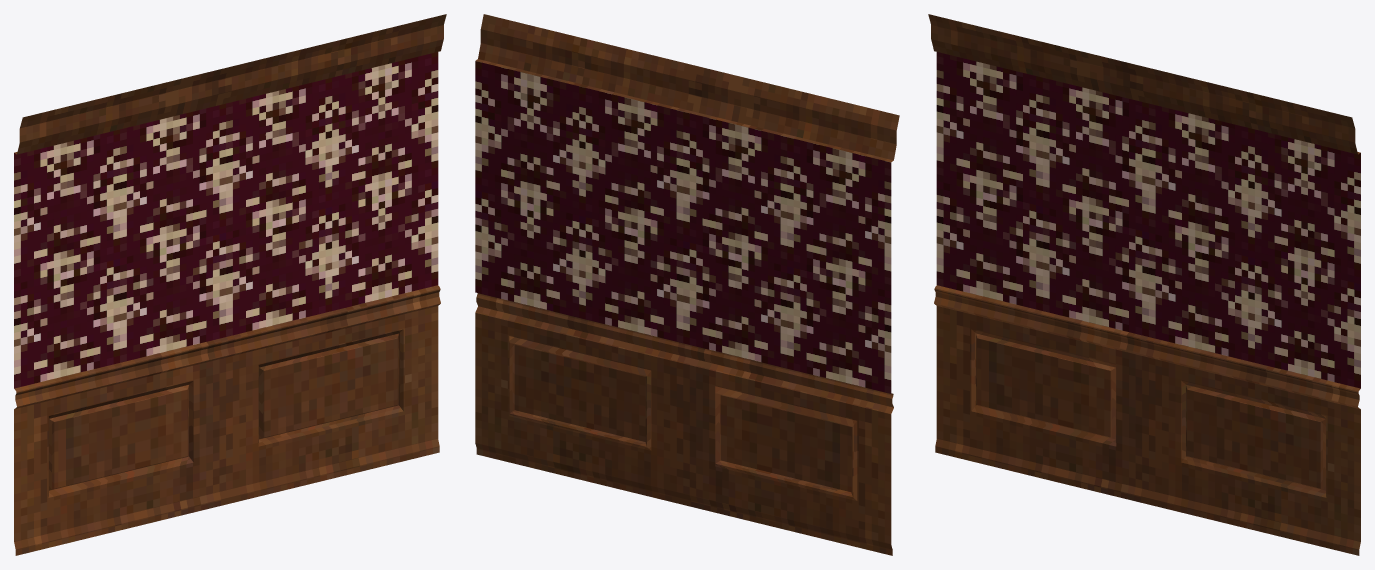
The model's file is Wall.Red.glb.
The picture shows the model from 3 angles, left to right: view 1: azimuth 30°, elevation 25°; view 2: azimuth 150°, elevation 25°; view 3: azimuth 330°, elevation 25°; orthographic projection.
Parts seen in each view (by area): view 1: Plane.004; view 2: Plane.004; view 3: Plane.004.
Part boxes in pixels (left/top/right/bottom): Plane.004: left=14, top=14, right=446, bottom=555; Plane.004: left=475, top=14, right=899, bottom=555; Plane.004: left=928, top=14, right=1360, bottom=555.
Bounding box in the file's own units: 3 × 3 × 0.1327.
2 materials, 2 textured.
